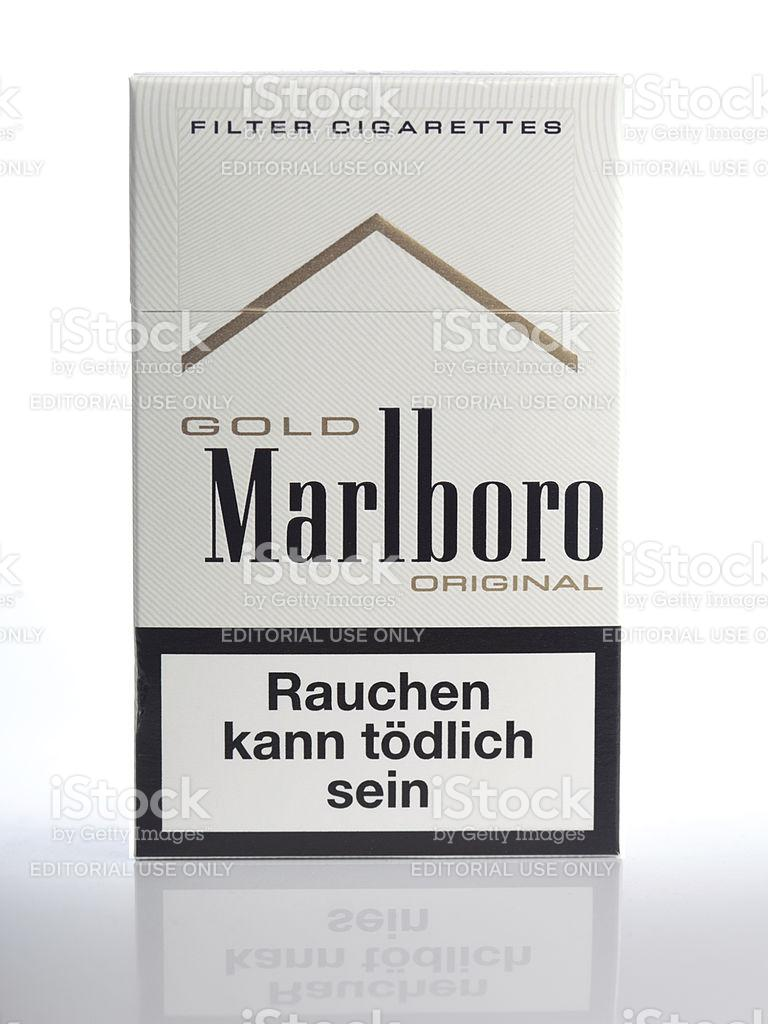marlboro_gold: (137, 87, 619, 853)
